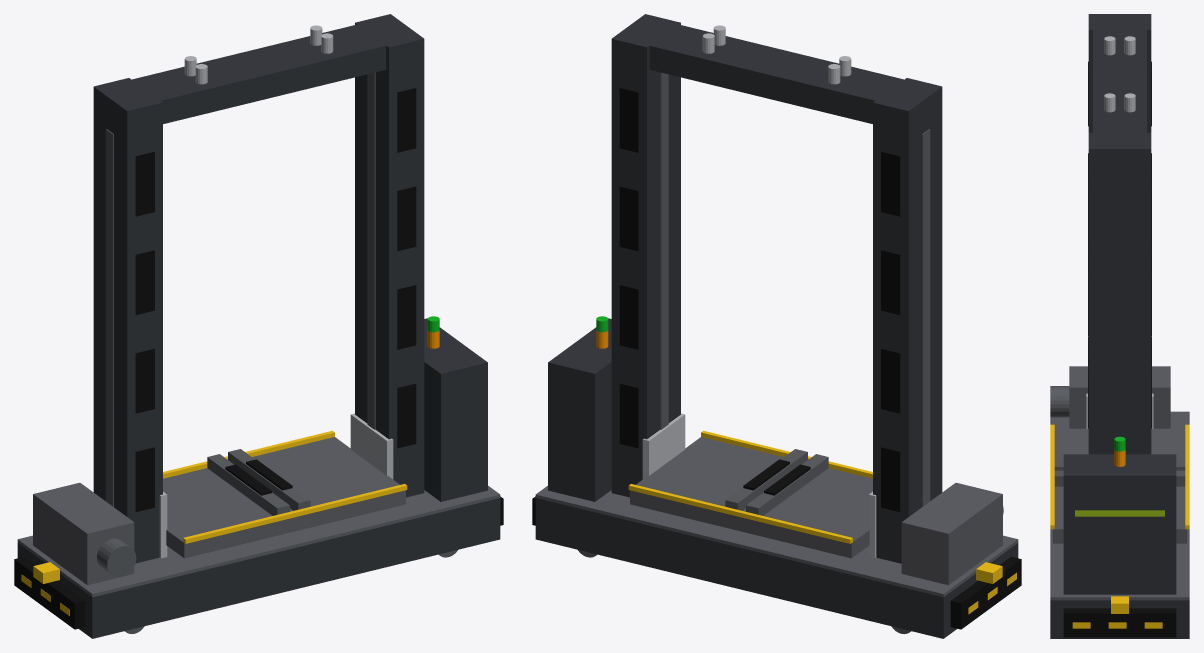
Rendered from rgv_stacker.glb.
3 renders of one model, left to right at view 1: azimuth 30°, elevation 25°; view 2: azimuth 150°, elevation 25°; view 3: azimuth 270°, elevation 25°, orthographic. The views are drawn at different scales.
Parts seen in each view (by area): view 1: rgv_body__anthracite, rgv_body__anthracite_lt, rgv_lift__anthracite_lt, rgv_body__rubber, rgv_lift__yellow, rgv_fork__steel_dark, rgv_lift__steel, rgv_body__steel_dark, rgv_fork__rubber, rgv_body__steel, rgv_body__yellow; view 2: rgv_body__anthracite, rgv_body__anthracite_lt, rgv_lift__anthracite_lt, rgv_body__rubber, rgv_lift__yellow, rgv_fork__steel_dark, rgv_lift__steel, rgv_fork__rubber, rgv_body__steel, rgv_body__yellow; view 3: rgv_body__anthracite, rgv_body__anthracite_lt, rgv_body__rubber, rgv_lift__anthracite_lt, rgv_lift__yellow, rgv_body__steel, rgv_body__yellow, rgv_body__steel_dark, rgv_body__lime, rgv_fork__steel_dark.
Part boxes in pixels (x1=…): rgv_body__anthracite: x1=17, y1=14, x2=500, y2=638; rgv_body__anthracite_lt: x1=17, y1=72, x2=500, y2=597; rgv_lift__anthracite_lt: x1=163, y1=437, x2=405, y2=558; rgv_body__rubber: x1=14, y1=88, x2=503, y2=629; rgv_lift__yellow: x1=163, y1=430, x2=407, y2=543; rgv_fork__steel_dark: x1=207, y1=449, x2=310, y2=515; rgv_lift__steel: x1=159, y1=413, x2=393, y2=558; rgv_body__steel_dark: x1=97, y1=538, x2=457, y2=633; rgv_fork__rubber: x1=225, y1=459, x2=292, y2=495; rgv_body__steel: x1=184, y1=25, x2=333, y2=84; rgv_body__yellow: x1=21, y1=562, x2=69, y2=616; rgv_body__anthracite: x1=535, y1=14, x2=1018, y2=638; rgv_body__anthracite_lt: x1=535, y1=72, x2=1018, y2=597; rgv_lift__anthracite_lt: x1=630, y1=437, x2=872, y2=558; rgv_body__rubber: x1=532, y1=88, x2=1021, y2=629; rgv_lift__yellow: x1=628, y1=430, x2=872, y2=543; rgv_fork__steel_dark: x1=725, y1=449, x2=828, y2=515; rgv_lift__steel: x1=642, y1=413, x2=876, y2=558; rgv_fork__rubber: x1=743, y1=459, x2=810, y2=495; rgv_body__steel: x1=702, y1=25, x2=851, y2=84; rgv_body__yellow: x1=968, y1=562, x2=1016, y2=614; rgv_body__anthracite: x1=1050, y1=14, x2=1189, y2=638; rgv_body__anthracite_lt: x1=1050, y1=366, x2=1189, y2=600; rgv_body__rubber: x1=1063, y1=61, x2=1176, y2=637; rgv_lift__anthracite_lt: x1=1052, y1=428, x2=1187, y2=543; rgv_lift__yellow: x1=1050, y1=424, x2=1189, y2=529; rgv_body__steel: x1=1104, y1=36, x2=1135, y2=112; rgv_body__yellow: x1=1072, y1=596, x2=1162, y2=628; rgv_body__steel_dark: x1=1050, y1=386, x2=1069, y2=417; rgv_body__lime: x1=1075, y1=510, x2=1164, y2=516; rgv_fork__steel_dark: x1=1054, y1=461, x2=1185, y2=486.
Size of the model in its own units: 4.22 by 4.79 by 1.24.
